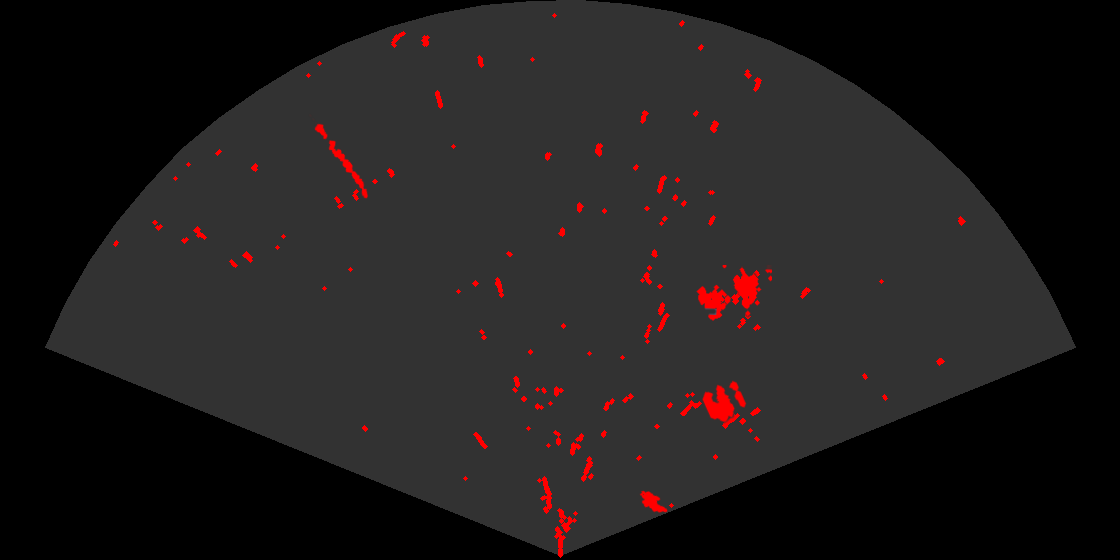AUV: (638, 489, 669, 514)
ball: (700, 379, 748, 424)
cage: (695, 265, 772, 322)
chain: (308, 113, 370, 200)
